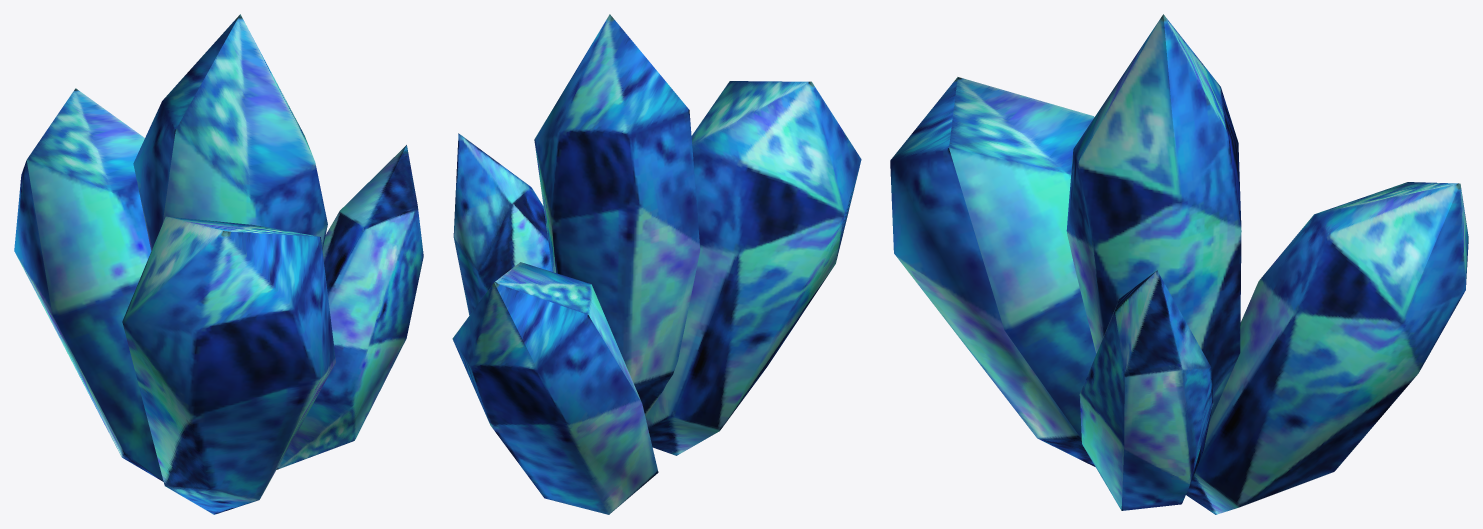
The model's file is INST_EKH_CRYSTAL_CLUSTER_01.fbx.
3 views of the same model, side by side, from view 1: azimuth 30°, elevation 25°; view 2: azimuth 150°, elevation 25°; view 3: azimuth 270°, elevation 25° (orthographic). The views are drawn at different scales.
Parts seen in each view (by area): view 1: INST_EKH_CRYSTAL_CLUSTER_01; view 2: INST_EKH_CRYSTAL_CLUSTER_01; view 3: INST_EKH_CRYSTAL_CLUSTER_01.
Part boxes in pixels (x1=…): INST_EKH_CRYSTAL_CLUSTER_01: x1=14, y1=14, x2=423, y2=514; INST_EKH_CRYSTAL_CLUSTER_01: x1=452, y1=14, x2=861, y2=514; INST_EKH_CRYSTAL_CLUSTER_01: x1=890, y1=14, x2=1468, y2=514.
Bounding box in the file's own units: 8471 × 11556 × 11808.
Materials: 1 (1 with a texture image).
